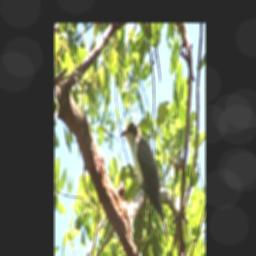Cuckoo: (119, 121, 168, 243)
